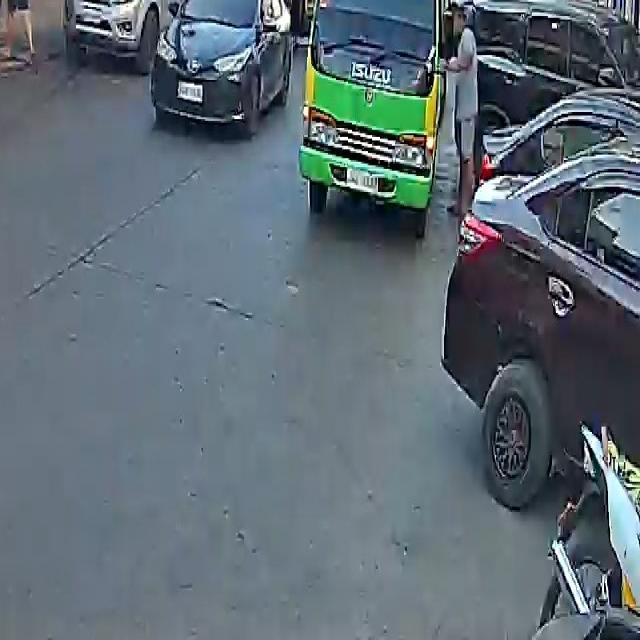car: (445, 68, 640, 530), (469, 0, 640, 123), (145, 0, 298, 135), (63, 0, 201, 73)
